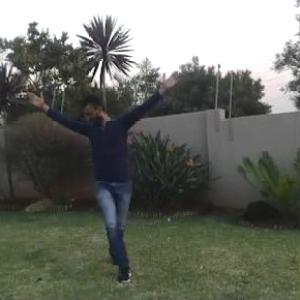takeoff: (1, 46, 232, 284)
